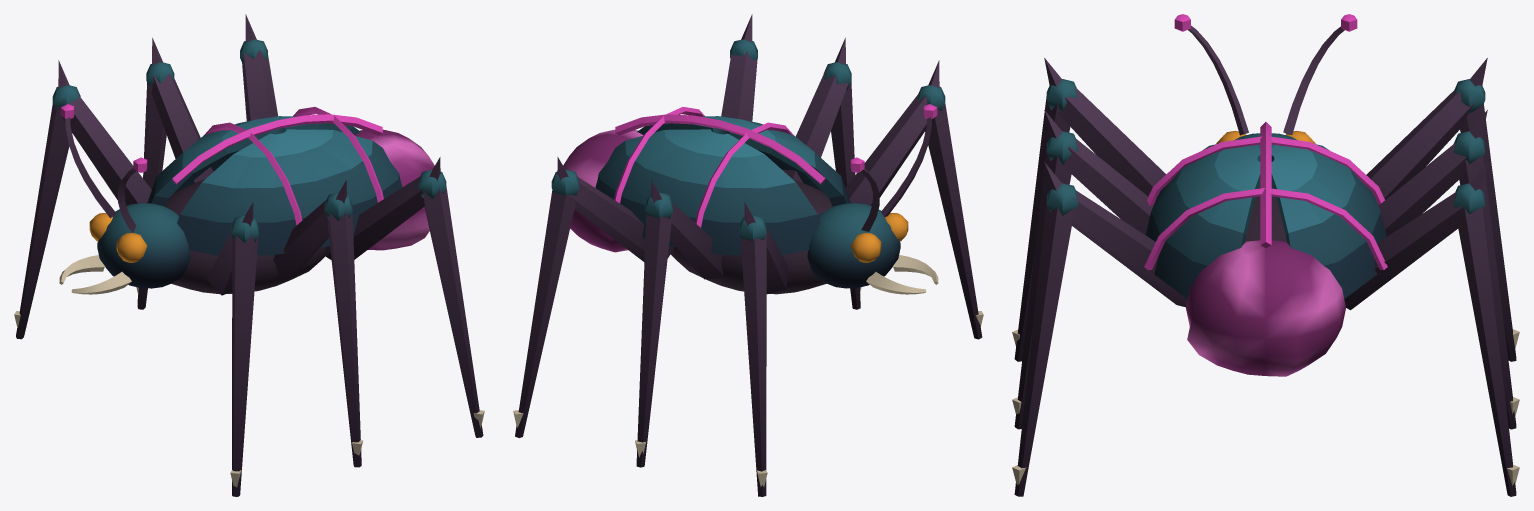
Rendered from Skitter.fbx.
3 views of the same model, side by side, from view 1: azimuth 30°, elevation 25°; view 2: azimuth 150°, elevation 25°; view 3: azimuth 270°, elevation 25° (orthographic). The views are drawn at different scales.
Visible parts, largest first — view 1: Body, Leg3, Leg2, Leg1, Leg0, Leg4, Leg5; view 2: Body, Leg0, Leg5, Leg4, Leg3, Leg1, Leg2; view 3: Body, Leg2, Leg5, Leg3, Leg0, Leg1, Leg4.
Part boxes in pixels (box(x1,y1,x2,y2)): Body: box(59, 104, 434, 294); Leg3: box(14, 60, 151, 339); Leg2: box(325, 157, 484, 437); Leg1: box(273, 180, 362, 467); Leg0: box(206, 202, 258, 496); Leg4: box(136, 37, 213, 309); Leg5: box(240, 14, 277, 121); Body: box(563, 104, 938, 294); Leg0: box(845, 60, 983, 339); Leg5: box(513, 157, 673, 437); Leg4: box(635, 180, 723, 467); Leg3: box(739, 202, 787, 496); Leg1: box(782, 37, 861, 309); Leg2: box(721, 14, 757, 121); Body: box(1144, 14, 1387, 376); Leg2: box(1012, 162, 1187, 496); Leg5: box(1344, 162, 1519, 496); Leg3: box(1366, 58, 1519, 361); Leg0: box(1012, 58, 1166, 361); Leg1: box(1012, 110, 1153, 429); Leg4: box(1378, 110, 1519, 429).
Bounding box in the file's own units: 0.7831 × 0.596 × 0.824.
